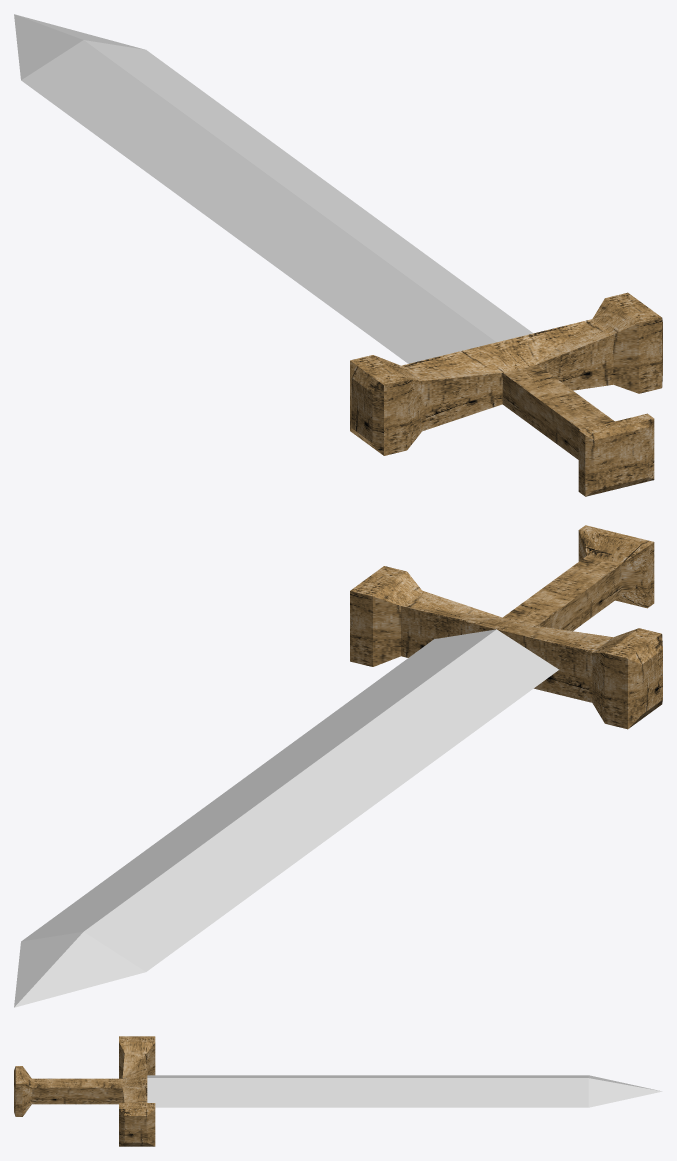
The model's file is Schwert.fbx.
3 views of the same model, one above another, from view 1: azimuth 30°, elevation 25°; view 2: azimuth 150°, elevation 25°; view 3: azimuth 270°, elevation 25° (orthographic). The views are drawn at different scales.
Visible parts, largest first — view 1: Plane; view 2: Plane; view 3: Plane.
Part boxes in pixels (x1,y1,x2,y2): Plane: (14, 14, 662, 496); Plane: (14, 525, 662, 1007); Plane: (14, 1036, 662, 1146).
Bounding box in the file's own units: 464 × 108 × 1680.
